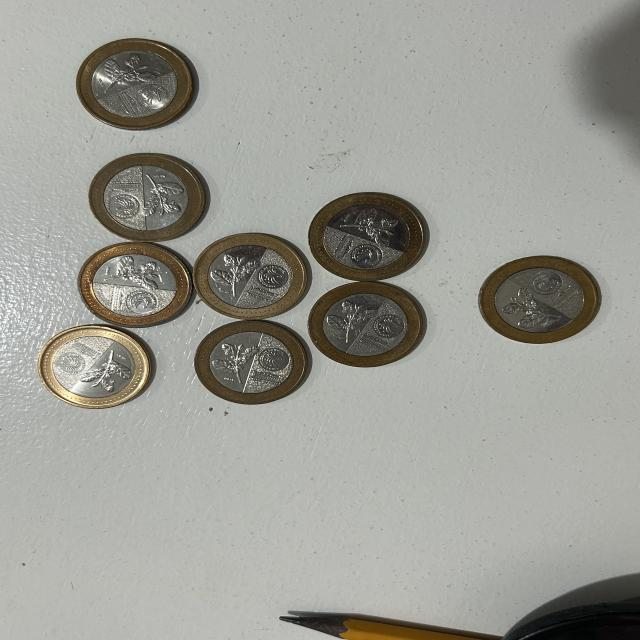20_New_Back: (102, 252, 173, 288), (502, 288, 560, 331), (82, 346, 130, 394), (325, 298, 375, 341), (344, 209, 400, 247), (214, 253, 259, 300), (139, 174, 184, 219), (213, 341, 257, 383), (100, 54, 152, 89)
